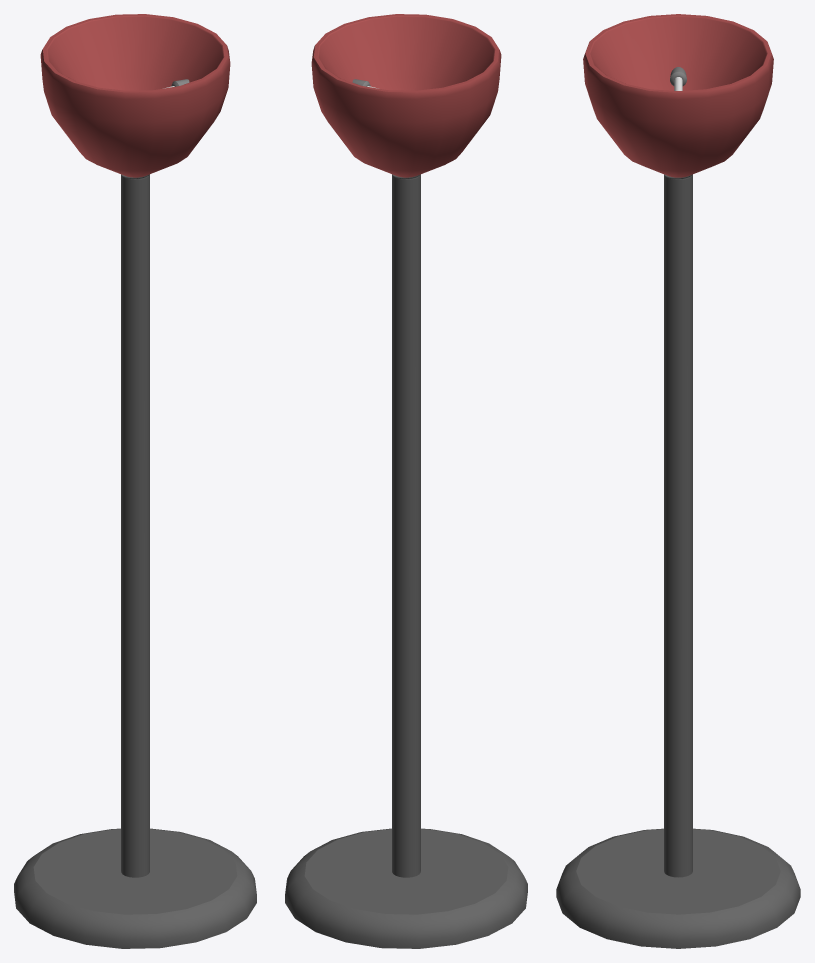
File: LampBigGeo.fbx
3 renders of one model, left to right at view 1: azimuth 30°, elevation 25°; view 2: azimuth 150°, elevation 25°; view 3: azimuth 270°, elevation 25°, orthographic.
Parts seen in each view (by area): view 1: LampBigGeo; view 2: LampBigGeo; view 3: LampBigGeo.
Boxes of the visible parts, left/top/right/bottom form: LampBigGeo: left=14, top=14, right=256, bottom=948; LampBigGeo: left=285, top=14, right=527, bottom=948; LampBigGeo: left=556, top=14, right=800, bottom=948.
Bounding box in the file's own units: 109 × 415 × 109.
